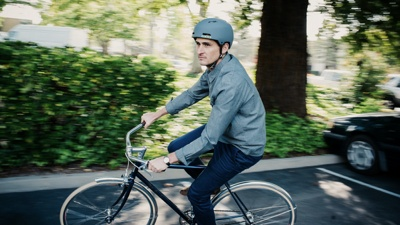helmet: (189, 15, 235, 69)
